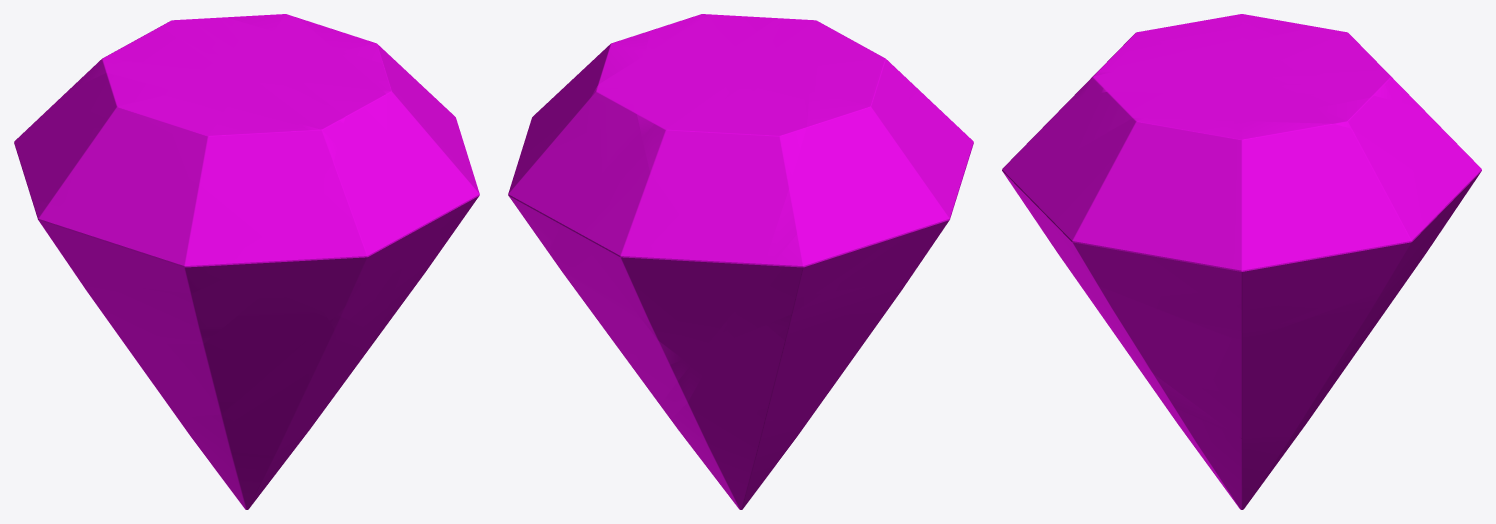
File: diamond.fbx
3 renders of one model, left to right at view 1: azimuth 30°, elevation 25°; view 2: azimuth 150°, elevation 25°; view 3: azimuth 270°, elevation 25°, orthographic.
Parts seen in each view (by area): view 1: polySurface629; view 2: polySurface629; view 3: polySurface629.
Part boxes in pixels (bbox=[...]): polySurface629: bbox=[14, 14, 479, 509]; polySurface629: bbox=[508, 14, 973, 509]; polySurface629: bbox=[1002, 14, 1481, 509].
Bounding box in the file's own units: 17.75 × 17.65 × 17.75.
